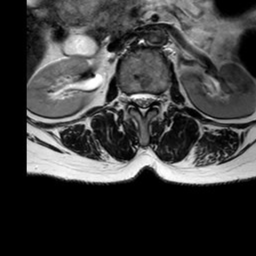CCS_normal: (138, 83, 147, 123)
LFS_stenosis: (155, 83, 164, 110)
LLS_normal: (147, 84, 156, 111)
RFS_normal: (121, 83, 129, 112)
RLS_normal: (129, 84, 138, 111)
